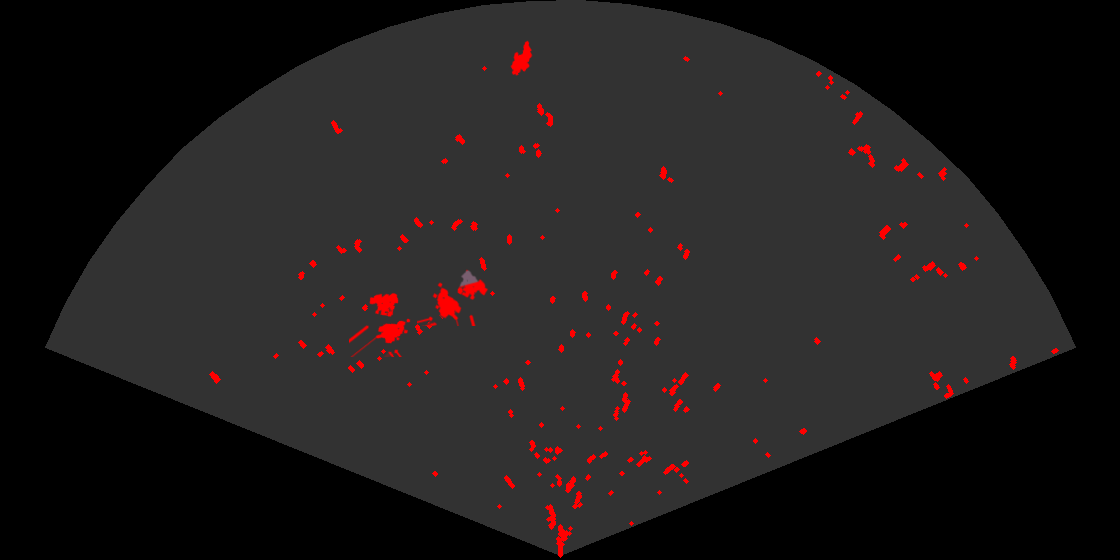AUV: (509, 39, 534, 77)
cage: (417, 268, 490, 326), (349, 291, 412, 357)
